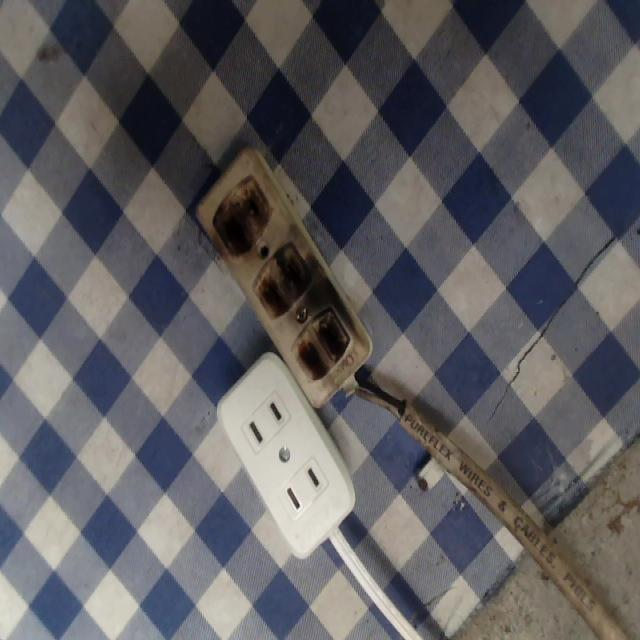-: (290, 305, 354, 387), (251, 240, 314, 316), (212, 171, 265, 256)
